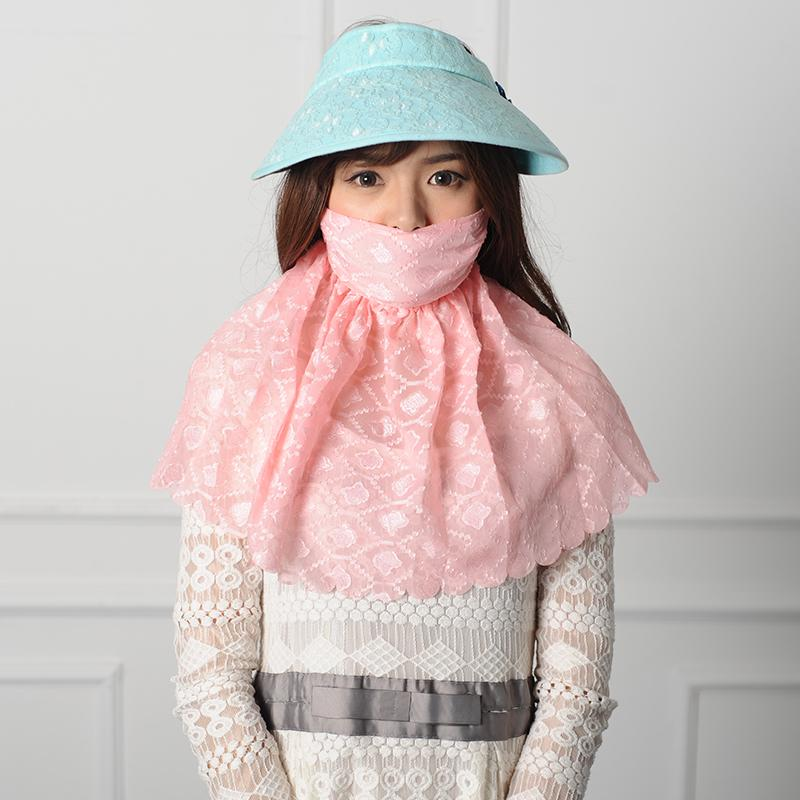WRONG: (326, 144, 483, 301)
